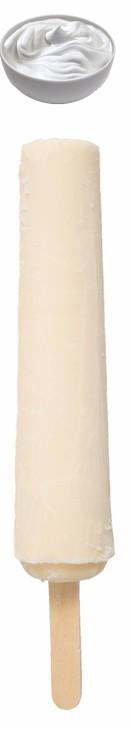Kulfi: (12, 141, 113, 587)
